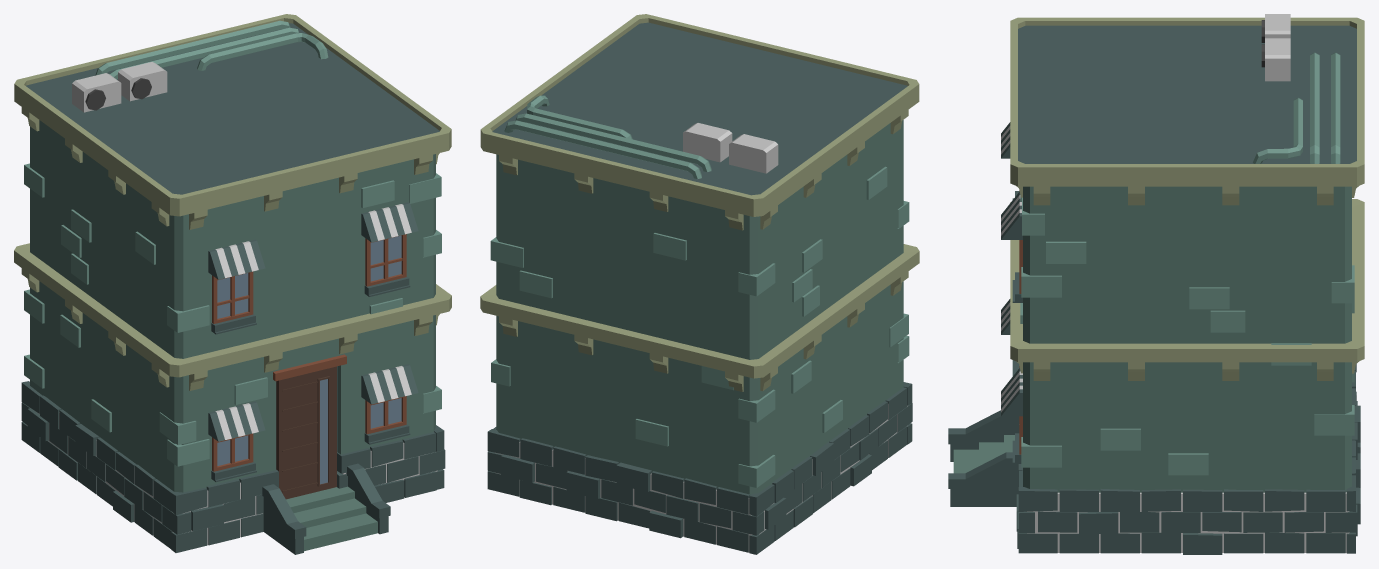
File: 2Story_Mat.gltf
The picture shows the model from 3 angles, left to right: view 1: azimuth 30°, elevation 25°; view 2: azimuth 150°, elevation 25°; view 3: azimuth 270°, elevation 25°; orthographic projection. The views are drawn at different scales.
Parts seen in each view (by area): view 1: 2Story_Mat; view 2: 2Story_Mat; view 3: 2Story_Mat.
Boxes of the visible parts, bbox=[...] form: 2Story_Mat: bbox=[14, 14, 451, 554]; 2Story_Mat: bbox=[480, 14, 919, 554]; 2Story_Mat: bbox=[948, 14, 1364, 554].
Size of the model in its own units: 2.16 by 2.75 by 2.53.
